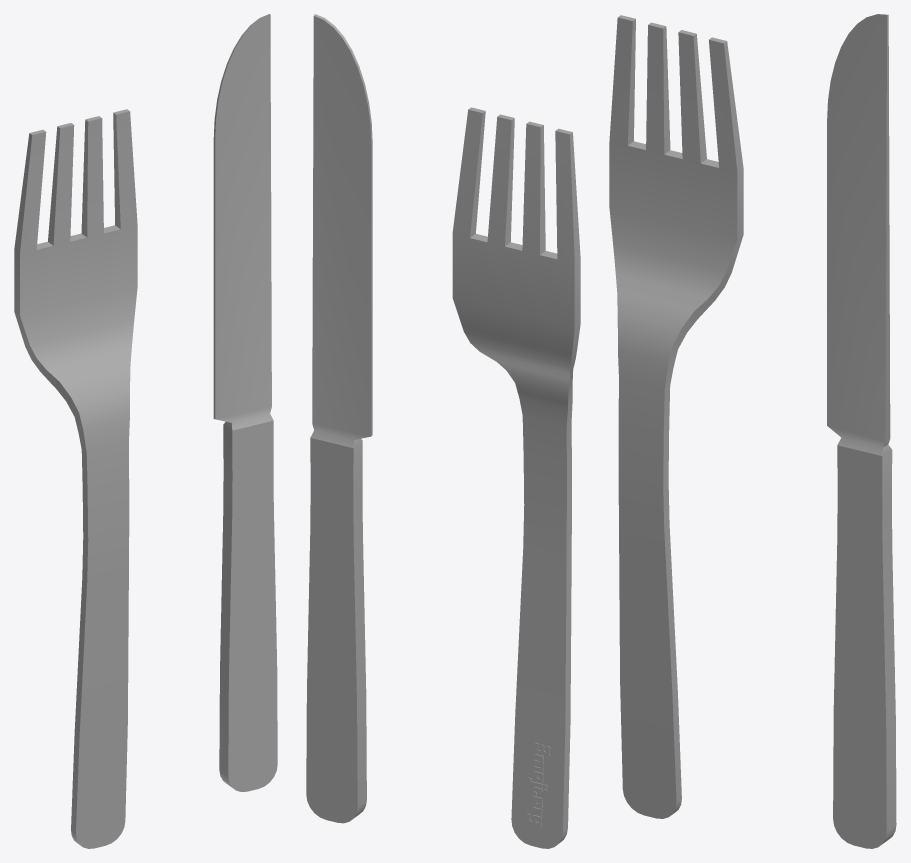
Rendered from fork_and_knife.gltf.
The picture shows the model from 3 angles, left to right: view 1: azimuth 30°, elevation 25°; view 2: azimuth 150°, elevation 25°; view 3: azimuth 330°, elevation 25°; orthographic projection. The views are drawn at different scales.
Visible parts, largest first — view 1: Cube.451; view 2: Cube.451; view 3: Cube.451.
Boxes of the visible parts, x1,y1,x2,y2 form: Cube.451: (14,14,277,848); Cube.451: (306,14,580,848); Cube.451: (609,14,896,848).
Bounding box in the file's own units: 0.7714 × 2.21 × 0.1955.
Materials: 1 (1 with a texture image).
